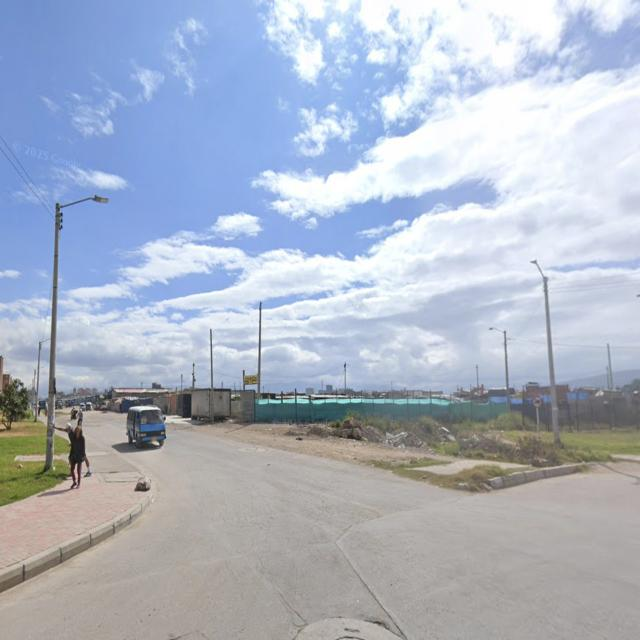Poste: (45, 195, 108, 470), (531, 260, 561, 444), (489, 327, 511, 412), (209, 329, 214, 421), (257, 301, 261, 399)
